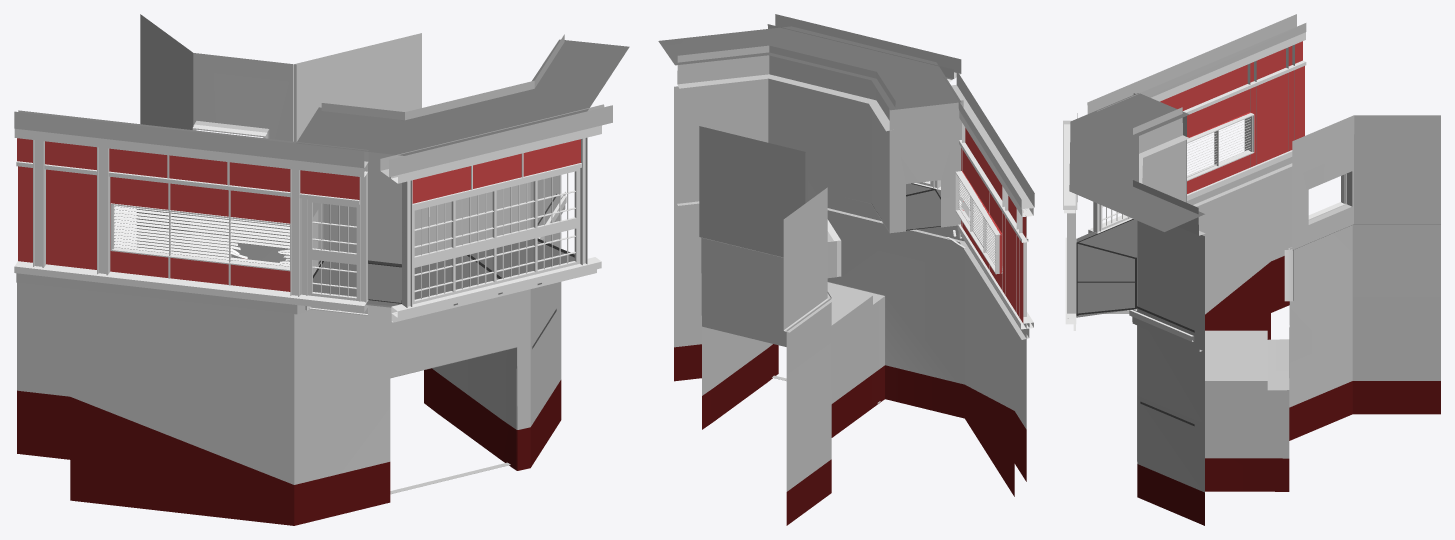
The model's file is SM_H_Building_Tide_Jail_C_01a_ATLAS.fbx.
The picture shows the model from 3 angles, left to right: view 1: azimuth 30°, elevation 25°; view 2: azimuth 150°, elevation 25°; view 3: azimuth 270°, elevation 25°; orthographic projection. The views are drawn at different scales.
Visible parts, largest first — view 1: SM_H_Building_Tide_Jail_C_01a_ATLAS; view 2: SM_H_Building_Tide_Jail_C_01a_ATLAS; view 3: SM_H_Building_Tide_Jail_C_01a_ATLAS.
Boxes of the visible parts, x1,y1,x2,y2 form: SM_H_Building_Tide_Jail_C_01a_ATLAS: (14, 14, 629, 525); SM_H_Building_Tide_Jail_C_01a_ATLAS: (658, 14, 1034, 525); SM_H_Building_Tide_Jail_C_01a_ATLAS: (1063, 14, 1440, 525).
Size of the model in its own units: 2586 by 1938 by 1799.
